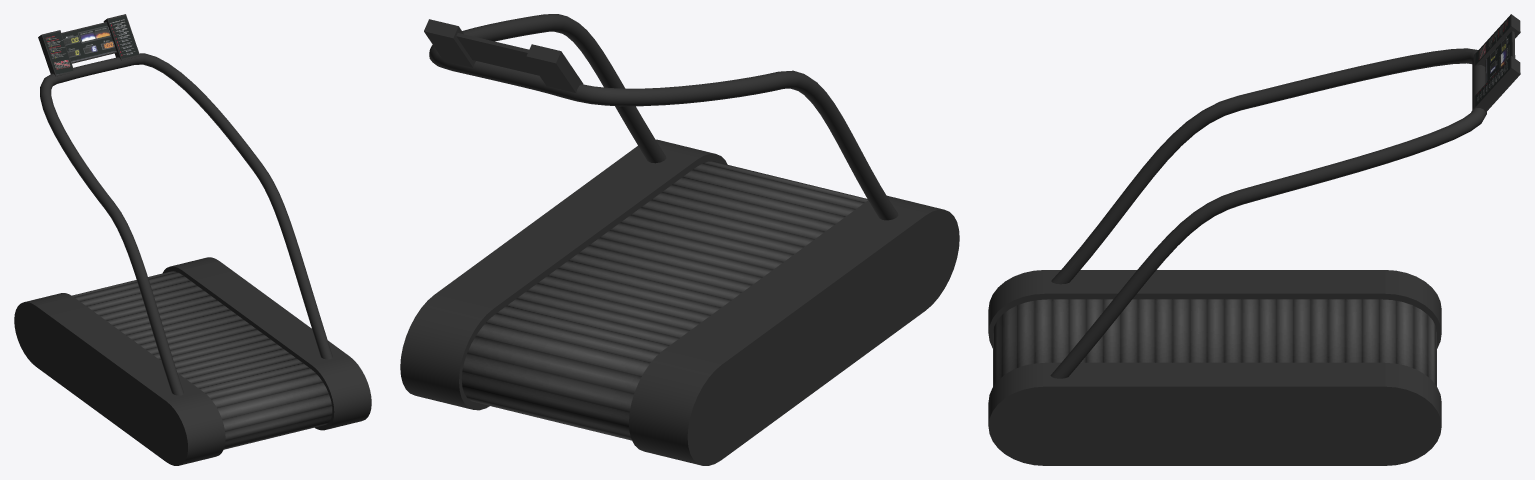
File: traka - 65.glb
3 renders of one model, left to right at view 1: azimuth 30°, elevation 25°; view 2: azimuth 150°, elevation 25°; view 3: azimuth 270°, elevation 25°, orthographic. The views are drawn at different scales.
Visible parts, largest first — view 1: Circle.002, Circle, BézierCurve, Circle.001, Cube.001; view 2: Circle.002, Circle, Circle.001, BézierCurve, Cube.001; view 3: Circle.001, Circle.002, BézierCurve, Circle, Cube.001.
Part boxes in pixels (box(x1,y1,x2,y2)): Circle.002: box(72, 271, 332, 449); Circle: box(14, 293, 225, 465); BézierCurve: box(40, 53, 332, 395); Circle.001: box(162, 257, 371, 430); Cube.001: box(38, 14, 139, 76); Circle.002: box(461, 161, 867, 440); Circle: box(629, 195, 959, 465); Circle.001: box(400, 139, 727, 410); BézierCurve: box(429, 14, 898, 220); Cube.001: box(424, 19, 583, 92); Circle.001: box(988, 362, 1441, 465); Circle.002: box(993, 299, 1436, 386); BézierCurve: box(1050, 48, 1486, 378); Circle: box(988, 270, 1441, 348); Cube.001: box(1474, 14, 1520, 112).
Size of the model in its own units: 0.9745 by 1.44 by 1.88.
Materials: 3 (2 with a texture image).
